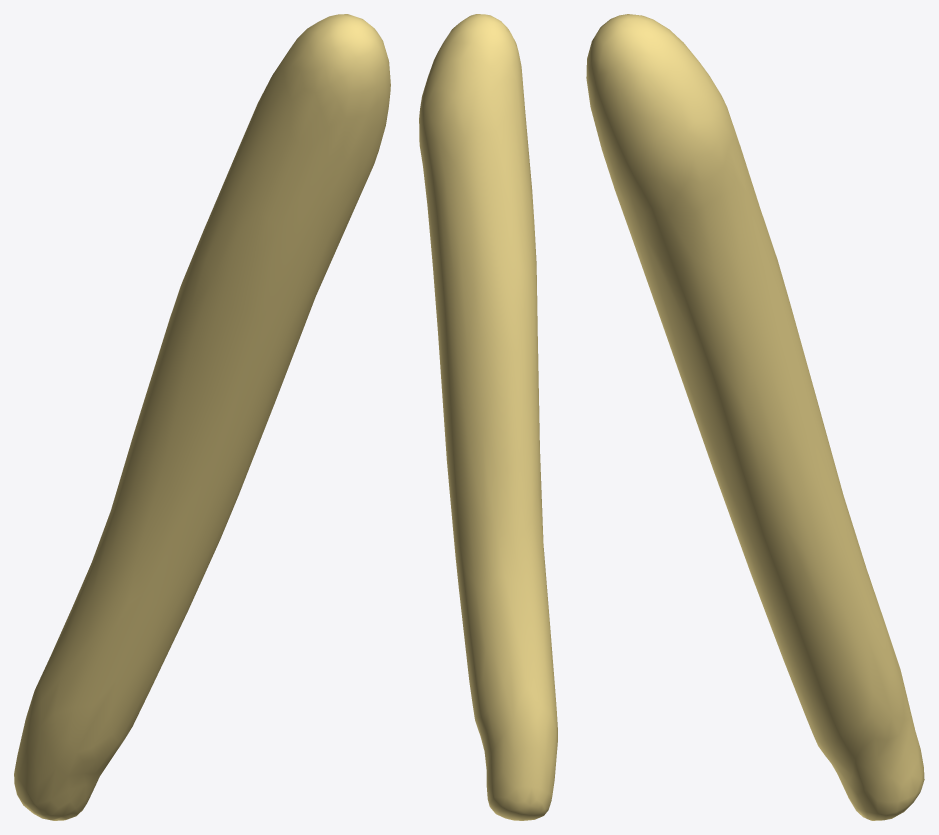
Rendered from fma54596_mm2613.glb.
The picture shows the model from 3 angles, left to right: view 1: azimuth 30°, elevation 25°; view 2: azimuth 150°, elevation 25°; view 3: azimuth 270°, elevation 25°; orthographic projection. The views are drawn at different scales.
Visible parts, largest first — view 1: FMA54596_MM2613; view 2: FMA54596_MM2613; view 3: FMA54596_MM2613.
Boxes of the visible parts, x1=… form: FMA54596_MM2613: x1=14, y1=14, x2=390, y2=820; FMA54596_MM2613: x1=419, y1=14, x2=557, y2=820; FMA54596_MM2613: x1=586, y1=14, x2=924, y2=820.
Size of the model in its own units: 0.00403 by 0.0128 by 0.00446.
